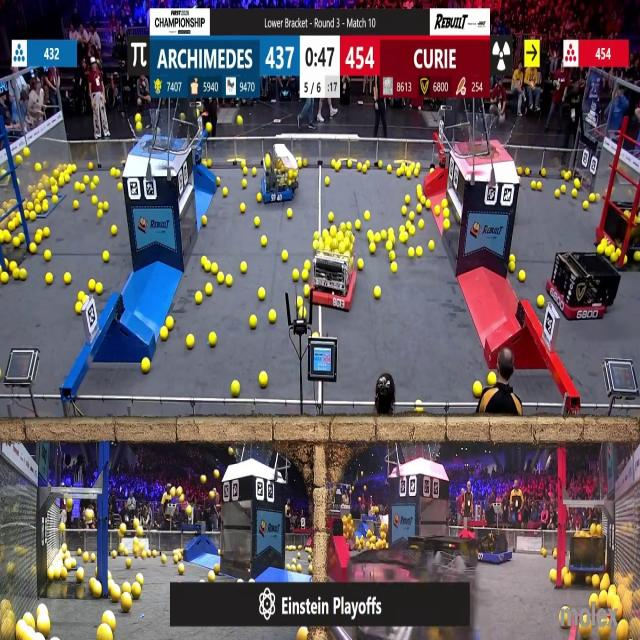ball_airborne: (87, 511, 96, 524), (297, 628, 307, 639), (119, 524, 125, 536), (186, 505, 192, 515), (24, 147, 30, 157), (206, 122, 212, 132), (136, 113, 142, 122), (201, 474, 207, 483), (15, 157, 21, 166), (61, 522, 66, 532), (136, 122, 142, 130), (36, 164, 42, 172), (215, 472, 220, 481), (227, 448, 232, 457), (177, 488, 182, 497), (210, 491, 215, 499), (180, 112, 185, 120), (180, 495, 184, 502)
ball_ground: (37, 618, 50, 636), (618, 622, 629, 640), (103, 614, 115, 630), (120, 595, 130, 612), (97, 627, 110, 640), (92, 583, 102, 599), (110, 588, 121, 602), (599, 626, 610, 640), (232, 381, 241, 396), (472, 382, 481, 397), (258, 373, 267, 388), (133, 585, 142, 599), (563, 573, 572, 587), (186, 336, 194, 350), (142, 358, 150, 372), (550, 569, 558, 583), (601, 574, 609, 588), (26, 616, 35, 628), (209, 334, 217, 347), (162, 327, 170, 340), (250, 315, 257, 329), (270, 310, 277, 324), (488, 374, 496, 386), (64, 273, 72, 285), (1, 273, 9, 285), (224, 275, 232, 287), (374, 286, 382, 298), (96, 282, 104, 294), (205, 283, 213, 295), (76, 568, 84, 580), (194, 291, 202, 302), (537, 295, 544, 307), (258, 288, 265, 300), (167, 317, 174, 329), (209, 570, 216, 582), (121, 584, 130, 593), (302, 272, 310, 282), (596, 245, 604, 255), (75, 304, 82, 315), (45, 274, 52, 285), (217, 274, 224, 285), (77, 290, 84, 301), (592, 575, 599, 586), (59, 176, 66, 187), (329, 224, 336, 235), (90, 280, 96, 292), (292, 270, 298, 282), (357, 260, 363, 272), (0, 232, 6, 244), (266, 157, 272, 169), (519, 272, 526, 282), (390, 264, 397, 274), (29, 244, 36, 254), (253, 216, 260, 226), (386, 241, 393, 251), (259, 237, 266, 247), (201, 256, 208, 266), (507, 264, 514, 274), (389, 251, 396, 261), (12, 238, 19, 248), (137, 574, 144, 584), (564, 614, 569, 628), (610, 252, 617, 262), (382, 231, 389, 241), (19, 270, 25, 281), (212, 264, 218, 275), (103, 251, 109, 262), (110, 224, 116, 235), (282, 250, 288, 261), (296, 295, 302, 306), (36, 234, 42, 245), (44, 250, 50, 261), (42, 202, 48, 213), (303, 310, 309, 321), (12, 270, 18, 281), (204, 265, 212, 273), (399, 234, 406, 243), (434, 207, 441, 216), (112, 169, 119, 178), (590, 192, 597, 201), (241, 264, 247, 274), (286, 209, 292, 219), (355, 220, 361, 230), (368, 244, 374, 254), (178, 564, 184, 574), (410, 248, 416, 258), (327, 212, 333, 222), (428, 241, 434, 251), (43, 228, 49, 238), (297, 310, 303, 320), (305, 262, 311, 272), (376, 233, 382, 243), (336, 162, 342, 172), (62, 569, 68, 579), (9, 264, 16, 272), (539, 169, 546, 177), (524, 169, 532, 176), (565, 172, 572, 180), (367, 232, 372, 243), (571, 188, 577, 197), (73, 201, 79, 210), (445, 219, 451, 228), (555, 188, 561, 197), (242, 179, 248, 188), (162, 555, 168, 564), (410, 226, 416, 235), (17, 234, 23, 243), (573, 179, 579, 188), (50, 185, 56, 194), (30, 211, 36, 220), (214, 564, 220, 573), (322, 230, 328, 239), (8, 221, 14, 230), (305, 286, 310, 296), (417, 247, 422, 257), (406, 196, 411, 206), (635, 251, 640, 261), (539, 550, 546, 557), (419, 220, 425, 228), (400, 207, 406, 215), (584, 202, 590, 210), (93, 197, 99, 205), (83, 176, 89, 184), (98, 210, 104, 218), (443, 201, 449, 209), (347, 221, 353, 229), (74, 182, 80, 190), (396, 169, 402, 177), (127, 560, 133, 568), (410, 212, 416, 220), (407, 171, 413, 179), (414, 170, 420, 178), (330, 161, 336, 169), (511, 254, 517, 262), (92, 554, 98, 562), (256, 192, 261, 201), (203, 216, 208, 225), (327, 179, 332, 188), (445, 209, 450, 218), (241, 204, 246, 213), (417, 204, 422, 213), (536, 181, 541, 190), (222, 187, 227, 196), (54, 197, 59, 206), (364, 211, 369, 220), (357, 162, 362, 171), (207, 160, 212, 169), (25, 211, 30, 220), (388, 227, 393, 236), (94, 177, 100, 184), (378, 163, 384, 170), (176, 556, 182, 563), (420, 197, 426, 204), (562, 568, 568, 575), (104, 202, 108, 212), (243, 168, 248, 176), (561, 184, 566, 192), (314, 232, 319, 240), (387, 166, 392, 174), (516, 166, 521, 174), (348, 162, 353, 170), (624, 256, 629, 264), (65, 175, 70, 183), (313, 241, 317, 251), (296, 564, 301, 572), (561, 172, 566, 180), (304, 161, 309, 169), (83, 554, 88, 562), (426, 200, 430, 209), (618, 248, 622, 257), (362, 165, 366, 174), (307, 566, 311, 575), (252, 169, 257, 176), (90, 164, 95, 171), (71, 166, 76, 173), (532, 181, 536, 189), (120, 186, 124, 194), (80, 182, 84, 190), (521, 168, 525, 176), (399, 225, 404, 231), (216, 178, 220, 185), (92, 182, 96, 189), (554, 552, 558, 559), (418, 184, 422, 191), (152, 552, 156, 559), (0, 266, 4, 273), (112, 552, 116, 559), (296, 553, 300, 559), (4, 258, 8, 264), (242, 162, 246, 168), (218, 550, 221, 557)
goal: (461, 118, 517, 158), (130, 115, 187, 152)
robot_blue: (566, 527, 607, 583), (262, 152, 300, 204), (478, 529, 514, 564)
robot_red: (552, 253, 620, 319), (312, 227, 358, 312), (344, 512, 393, 580)
